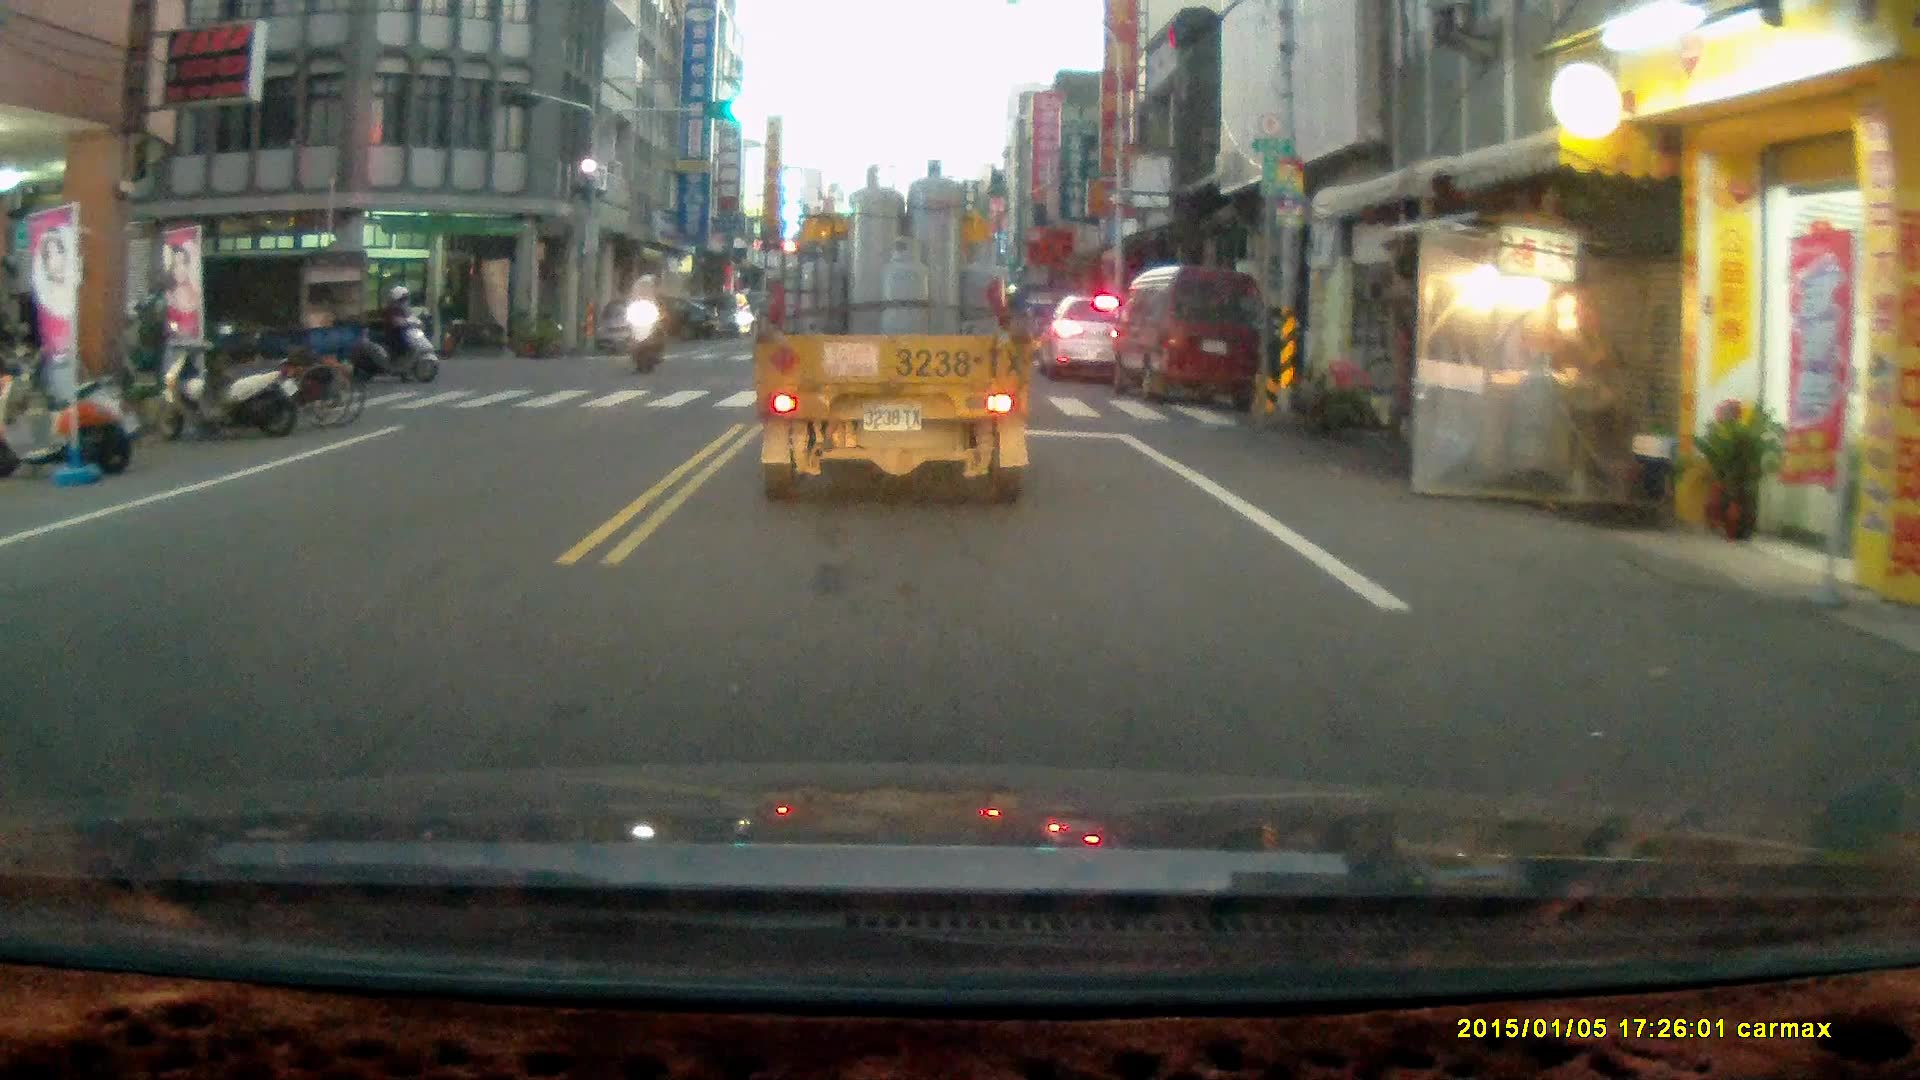pedestrian: (434, 278, 461, 359)
rider: (358, 283, 440, 386), (619, 271, 669, 376)
vehicle: (753, 164, 1028, 511), (101, 247, 373, 400), (1109, 265, 1269, 414), (1044, 291, 1138, 383), (596, 294, 674, 355), (688, 289, 752, 336)
